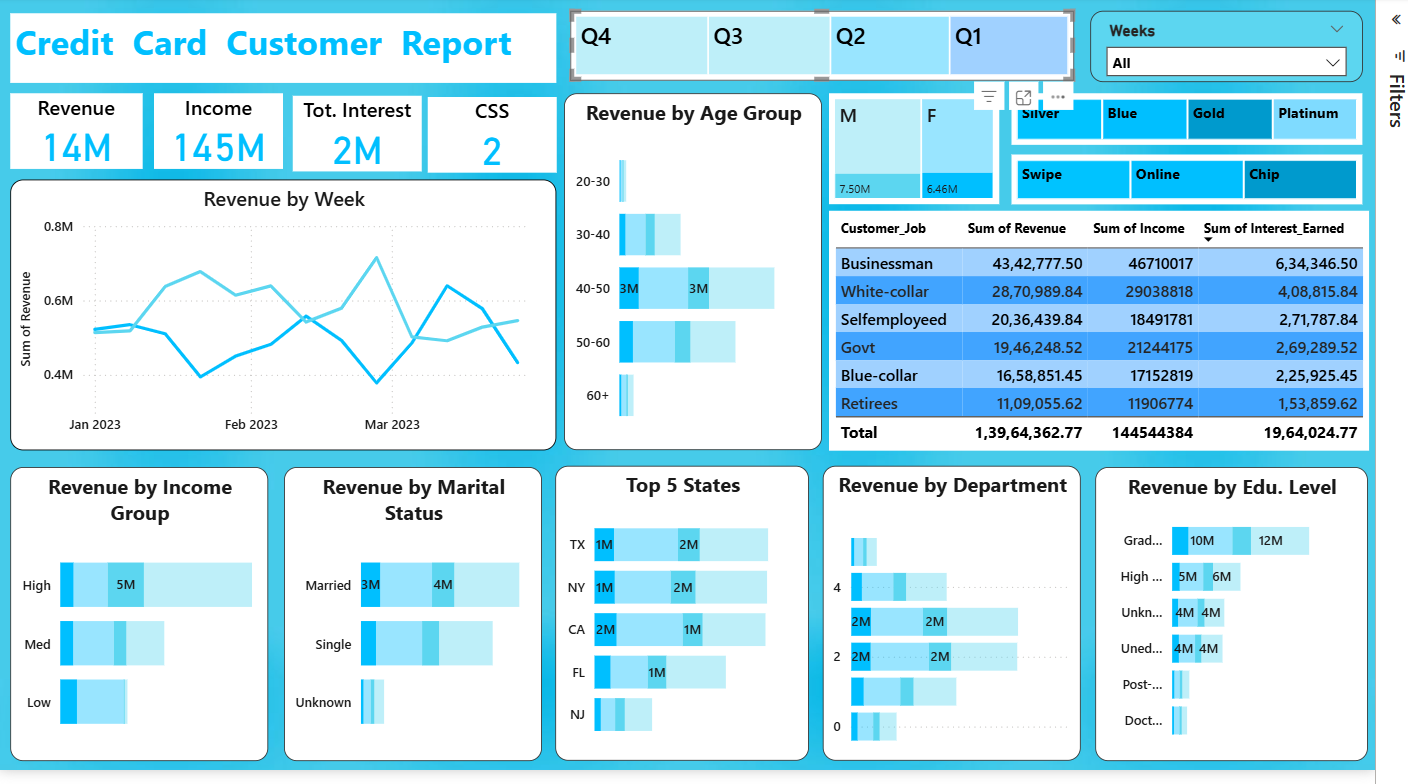

Layout of this report page (visuals, bound fields, positions):
{"tool":"powerbi","page":{"name":"Page 3","canvas":[1280,720],"ordinal":2},"visuals":[{"type":"textbox","box":[10,15,508.3,65],"z":0},{"type":"barChart","title":" Revenue by Income Group","fields":{"Y":["Sum(ccdb cc_detail.Revenue)"],"Category":["ccdb cust_detail.income group"],"Series":["ccdb cust_detail.Gender"]},"box":[10,436.7,240,273.3],"z":1000},{"type":"tableEx","fields":{"Values":["ccdb cust_detail.Customer_Job","Sum(ccdb cc_detail.Revenue)","Sum(ccdb cust_detail.Income)","Sum(ccdb cc_detail.Interest_Earned)"]},"box":[771.7,198.3,502,223.3],"z":2000},{"type":"card","title":"Tot. Interest ","fields":{"Values":["Sum(ccdb cc_detail.Interest_Earned)"]},"box":[272.9,91.4,120,70],"z":3000},{"type":"card","title":"Revenue","fields":{"Values":["Sum(ccdb cc_detail.Revenue)"]},"box":[10,90,122.9,70],"z":4000},{"type":"card","title":"Income","fields":{"Values":["Sum(ccdb cust_detail.Income)"]},"box":[144.3,90,120,70],"z":5000},{"type":"card","title":"CSS","fields":{"Values":["Avg(ccdb cust_detail.Cust_Satisfaction_Score)"]},"box":[398.6,92.9,120,70],"z":6000},{"type":"slicer","fields":{"Values":["ccdb cc_detail.Week_Start_Date"]},"box":[1015,13.3,253.3,66.7],"z":7000},{"type":"treemap","fields":{"Group":["ccdb cc_detail.Qtr"],"Values":["Avg(ccdb cc_detail.Client_Num)"]},"box":[531.7,13.3,468.3,65],"z":8000},{"type":"treemap","fields":{"Group":["ccdb cc_detail.Card_Category"],"Values":["Avg(ccdb cc_detail.Client_Num)"]},"box":[941.7,90,326.7,48.3],"z":9000},{"type":"lineChart","title":"Revenue by Week","fields":{"Y":["Sum(ccdb cc_detail.Revenue)"],"Series":["ccdb cust_detail.Gender"],"Category":["ccdb cc_detail.Week_Start_Date.Variation.Date Hierarchy.Year","ccdb cc_detail.Week_Start_Date.Variation.Date Hierarchy.Month","ccdb cc_detail.Week_Start_Date.Variation.Date Hierarchy.Day"]},"box":[10,170,508.3,251.7],"z":10000},{"type":"treemap","fields":{"Group":["ccdb cust_detail.Gender"],"Values":["Sum(ccdb cc_detail.Revenue)"]},"box":[771.7,90,158.3,103.3],"z":11000},{"type":"barChart","title":" Revenue by Age Group","fields":{"Y":["Sum(ccdb cc_detail.Revenue)"],"Category":["ccdb cust_detail.age group"],"Series":["ccdb cust_detail.Gender"]},"box":[526,90,240,332],"z":12000},{"type":"barChart","title":" Revenue by Department ","fields":{"Y":["Sum(ccdb cc_detail.Revenue)"],"Category":["ccdb cust_detail.Dependent_Count"],"Series":["ccdb cust_detail.Gender"]},"box":[766,436,240,274],"z":13000},{"type":"barChart","title":" Revenue by Edu. Level","fields":{"Y":["Sum(ccdb cc_detail.Revenue)"],"Category":["ccdb cust_detail.Education_Level"],"Series":["ccdb cust_detail.Gender"]},"box":[1020,436.7,253.3,273.3],"z":14000},{"type":"barChart","title":"Top 5 States","fields":{"Y":["Sum(ccdb cc_detail.Revenue)"],"Category":["ccdb cust_detail.State_cd"],"Series":["ccdb cust_detail.Gender"]},"box":[518,436,236,274],"z":15000},{"type":"barChart","title":" Revenue by Marital Status","fields":{"Y":["Sum(ccdb cc_detail.Revenue)"],"Category":["ccdb cust_detail.Marital_Status"],"Series":["ccdb cust_detail.Gender"]},"box":[265,436.7,240,273.3],"z":16000},{"type":"treemap","fields":{"Group":["ccdb cc_detail.Use_Chip"],"Values":["Avg(ccdb cc_detail.Client_Num)"]},"box":[941.7,146.7,326.7,46.7],"z":17000}]}

Visuals, with their boxes in screenshot pixels (x1, y1, x2, y2), scaled from the page's 1280x720 canvas onto the 1408x784 screenshot:
textbox: <bbox>11, 16, 570, 87</bbox>
" Revenue by Income Group" barChart: <bbox>11, 476, 275, 773</bbox>
tableEx - ccdb cust_detail.Customer_Job x Sum(ccdb cc_detail.Revenue): <bbox>849, 216, 1401, 459</bbox>
"Tot. Interest " card: <bbox>300, 100, 432, 176</bbox>
"Revenue" card: <bbox>11, 98, 146, 174</bbox>
"Income" card: <bbox>159, 98, 291, 174</bbox>
"CSS" card: <bbox>438, 101, 570, 177</bbox>
slicer - ccdb cc_detail.Week_Start_Date: <bbox>1116, 14, 1395, 87</bbox>
treemap - ccdb cc_detail.Qtr x Avg(ccdb cc_detail.Client_Num): <bbox>585, 14, 1100, 85</bbox>
treemap - ccdb cc_detail.Card_Category x Avg(ccdb cc_detail.Client_Num): <bbox>1036, 98, 1395, 151</bbox>
"Revenue by Week" lineChart: <bbox>11, 185, 570, 459</bbox>
treemap - ccdb cust_detail.Gender x Sum(ccdb cc_detail.Revenue): <bbox>849, 98, 1023, 210</bbox>
" Revenue by Age Group" barChart: <bbox>579, 98, 843, 460</bbox>
" Revenue by Department " barChart: <bbox>843, 475, 1107, 773</bbox>
" Revenue by Edu. Level" barChart: <bbox>1122, 476, 1401, 773</bbox>
"Top 5 States" barChart: <bbox>570, 475, 829, 773</bbox>
" Revenue by Marital Status" barChart: <bbox>292, 476, 556, 773</bbox>
treemap - ccdb cc_detail.Use_Chip x Avg(ccdb cc_detail.Client_Num): <bbox>1036, 160, 1395, 211</bbox>
